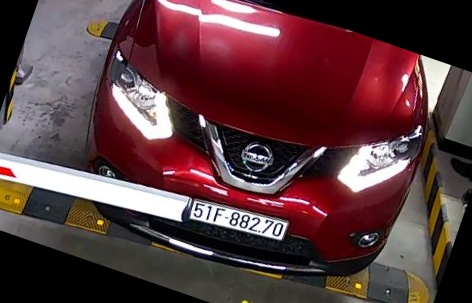plate: (185, 193, 289, 248)
